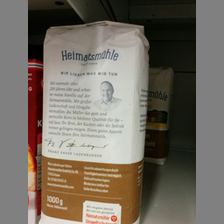flour: (40, 21, 150, 223)
